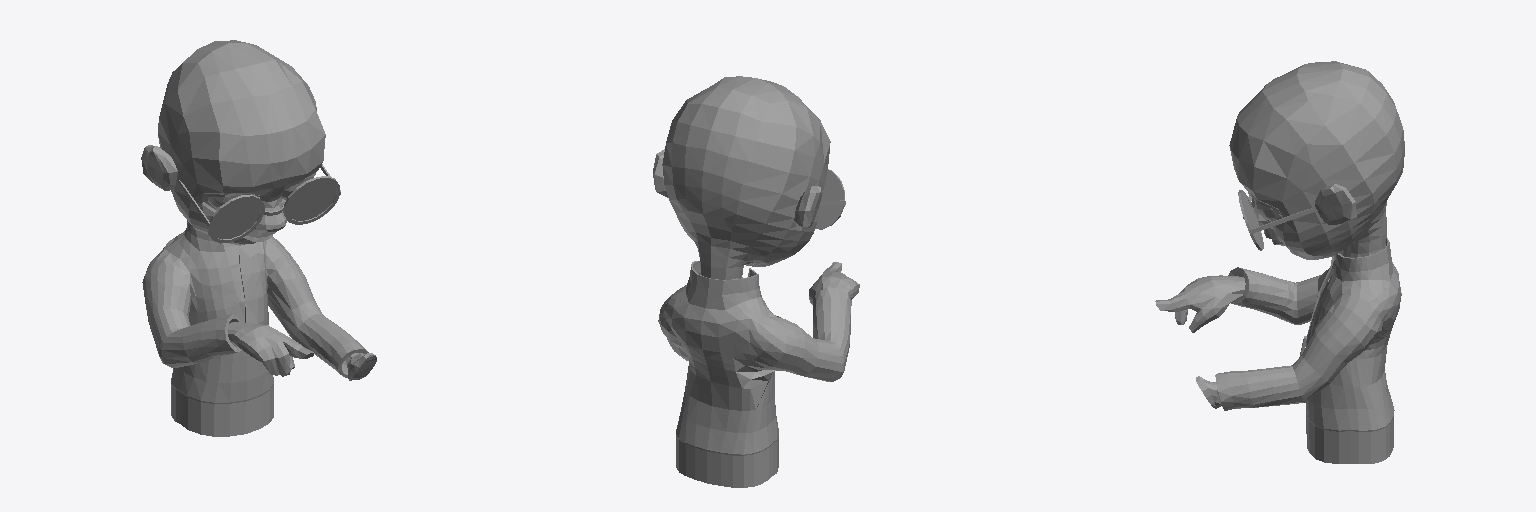
The model's file is userBdy_3c.obj.
The picture shows the model from 3 angles: view 1: azimuth 30°, elevation 25°; view 2: azimuth 150°, elevation 25°; view 3: azimuth 270°, elevation 25°; orthographic projection.
Parts seen in each view (by area): view 1: userBdy_3c.obj; view 2: userBdy_3c.obj; view 3: userBdy_3c.obj.
Part boxes in pixels (bbox=[...]): userBdy_3c.obj: bbox=[141, 40, 376, 436]; userBdy_3c.obj: bbox=[653, 76, 859, 487]; userBdy_3c.obj: bbox=[1155, 61, 1404, 463].
Size of the model in its own units: 3.39 by 7.14 by 4.28.